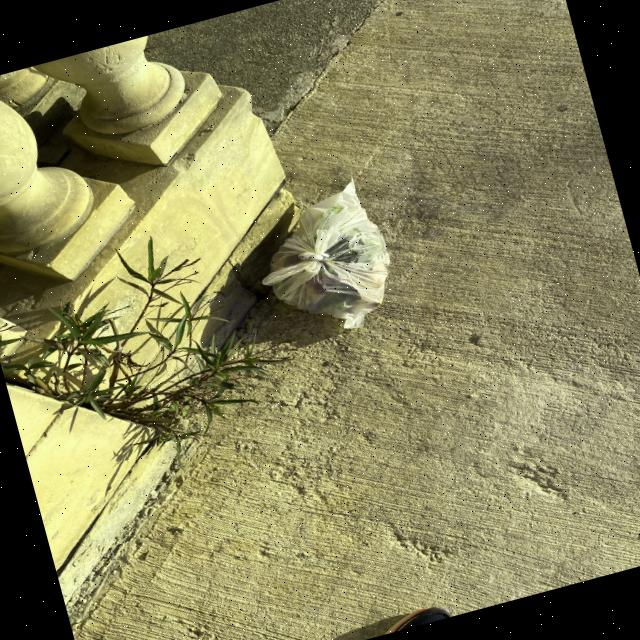Organic Waste: (240, 168, 422, 348)
